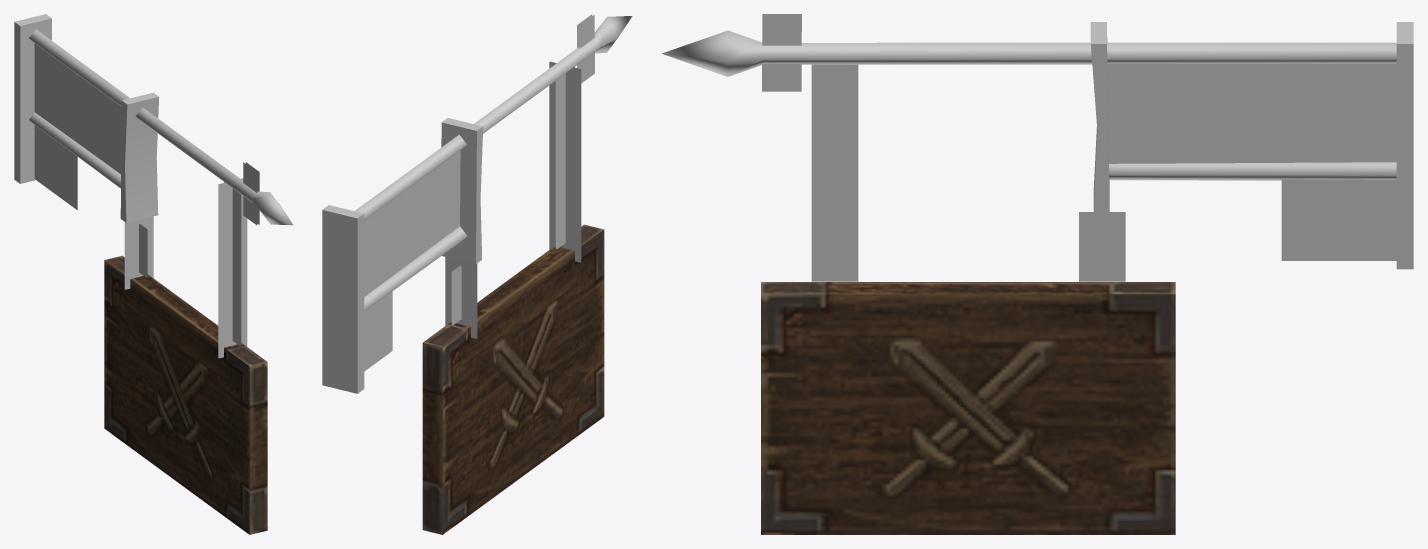
Rendered from Sign03_f.FBX.
3 renders of one model, left to right at view 1: azimuth 30°, elevation 25°; view 2: azimuth 150°, elevation 25°; view 3: azimuth 270°, elevation 25°, orthographic. The views are drawn at different scales.
Visible parts, largest first — view 1: Sign03_f; view 2: Sign03_f; view 3: Sign03_f.
Boxes of the visible parts, x1,y1,x2,y2 form: Sign03_f: (14, 14, 293, 534); Sign03_f: (322, 14, 632, 534); Sign03_f: (662, 14, 1413, 534).
Size of the model in its own units: 10.11 by 109 by 145.
